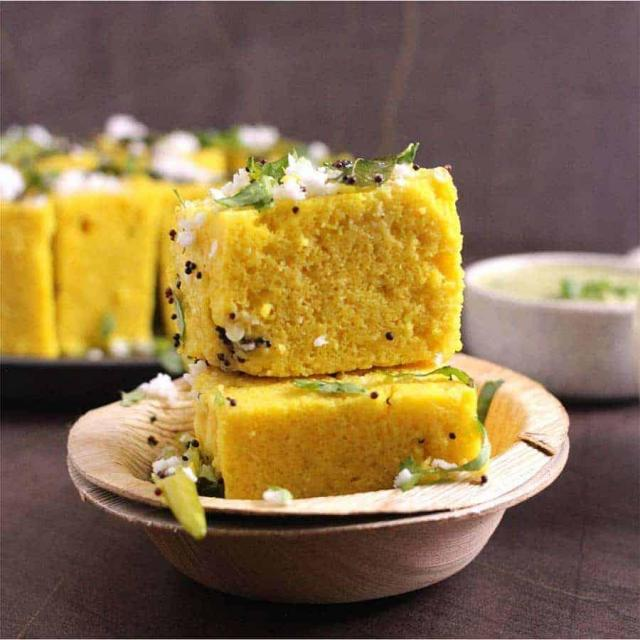dhokla: (1, 110, 458, 366), (198, 154, 447, 509)
